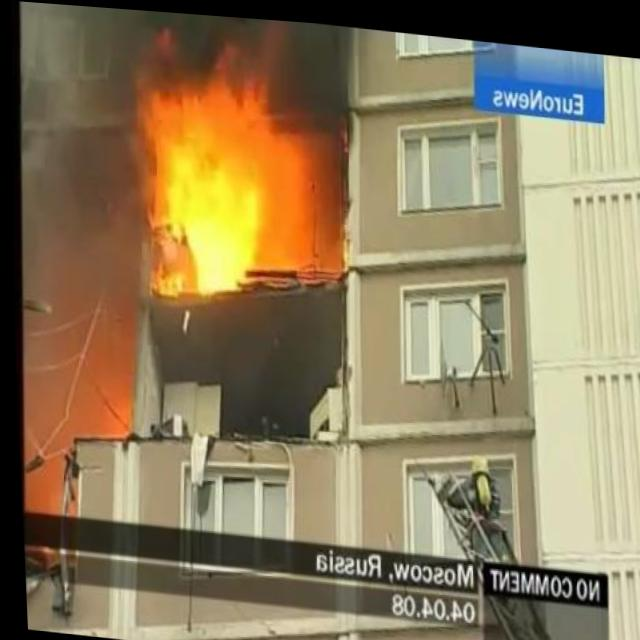fire: (123, 7, 302, 310)
